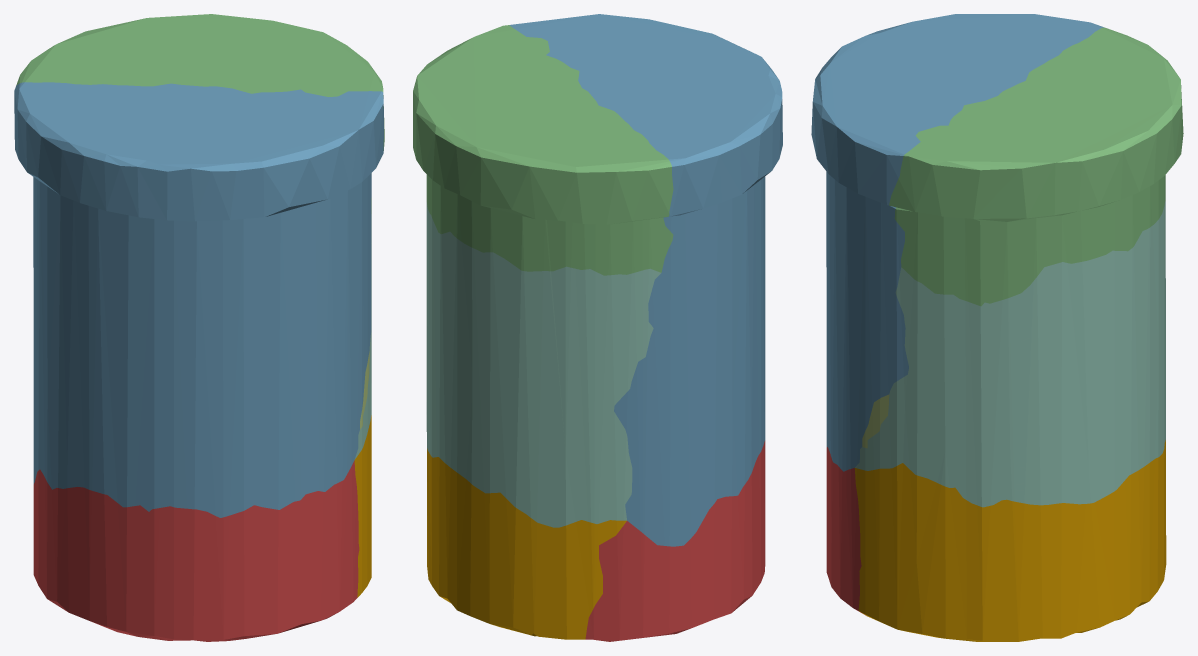
File: fractured_62_6pcs.glb
3 renders of one model, left to right at view 1: azimuth 30°, elevation 25°; view 2: azimuth 150°, elevation 25°; view 3: azimuth 270°, elevation 25°, orthographic.
Parts seen in each view (by area): view 1: piece_2.obj, piece_1.obj, piece_3.obj, piece_0.obj, piece_4.obj; view 2: piece_2.obj, piece_4.obj, piece_3.obj, piece_0.obj, piece_1.obj; view 3: piece_4.obj, piece_3.obj, piece_2.obj, piece_0.obj, piece_1.obj, piece_5.obj.
Boxes of the visible parts, x1=… form: piece_2.obj: x1=14, y1=82, x2=383, y2=517; piece_1.obj: x1=33, y1=460, x2=359, y2=641; piece_3.obj: x1=16, y1=14, x2=384, y2=213; piece_0.obj: x1=354, y1=415, x2=371, y2=597; piece_4.obj: x1=355, y1=214, x2=371, y2=458; piece_2.obj: x1=509, y1=14, x2=782, y2=546; piece_4.obj: x1=426, y1=202, x2=660, y2=527; piece_3.obj: x1=413, y1=25, x2=673, y2=275; piece_0.obj: x1=427, y1=448, x2=626, y2=639; piece_1.obj: x1=585, y1=440, x2=765, y2=641; piece_4.obj: x1=855, y1=201, x2=1165, y2=507; piece_3.obj: x1=889, y1=27, x2=1183, y2=306; piece_2.obj: x1=811, y1=14, x2=1104, y2=471; piece_0.obj: x1=854, y1=440, x2=1166, y2=641; piece_1.obj: x1=826, y1=447, x2=865, y2=615; piece_5.obj: x1=862, y1=394, x2=889, y2=448.
Size of the model in its own units: 0.6918 by 1 by 0.6941.
